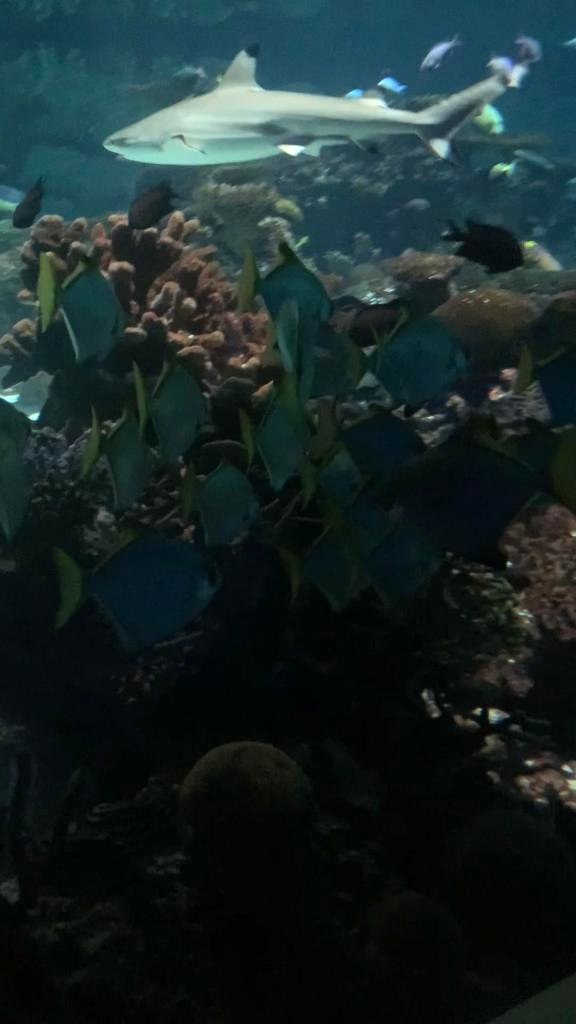fish: (387, 420, 555, 558), (31, 390, 188, 530), (61, 537, 238, 657), (60, 347, 220, 449), (312, 481, 408, 615), (252, 330, 396, 418), (218, 234, 350, 326), (364, 308, 504, 394), (40, 244, 134, 358), (222, 406, 336, 492), (439, 218, 525, 278), (124, 180, 180, 230), (12, 174, 46, 230), (468, 98, 504, 138), (514, 34, 540, 68), (419, 45, 452, 71), (169, 66, 207, 86), (376, 76, 408, 94)
shark: (102, 39, 538, 163)
